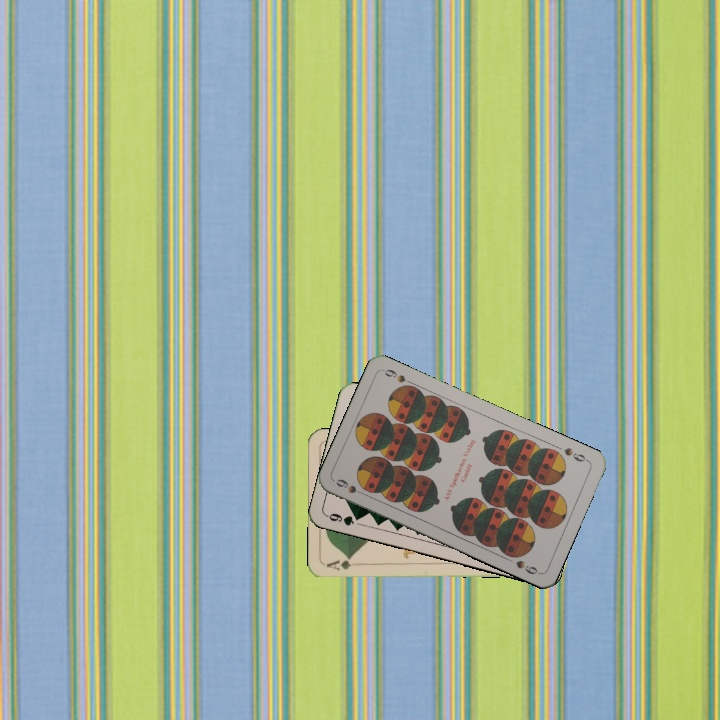G9: (323, 509, 364, 528)
GA: (322, 553, 354, 572)
S9: (332, 475, 371, 499), (560, 443, 591, 465)
